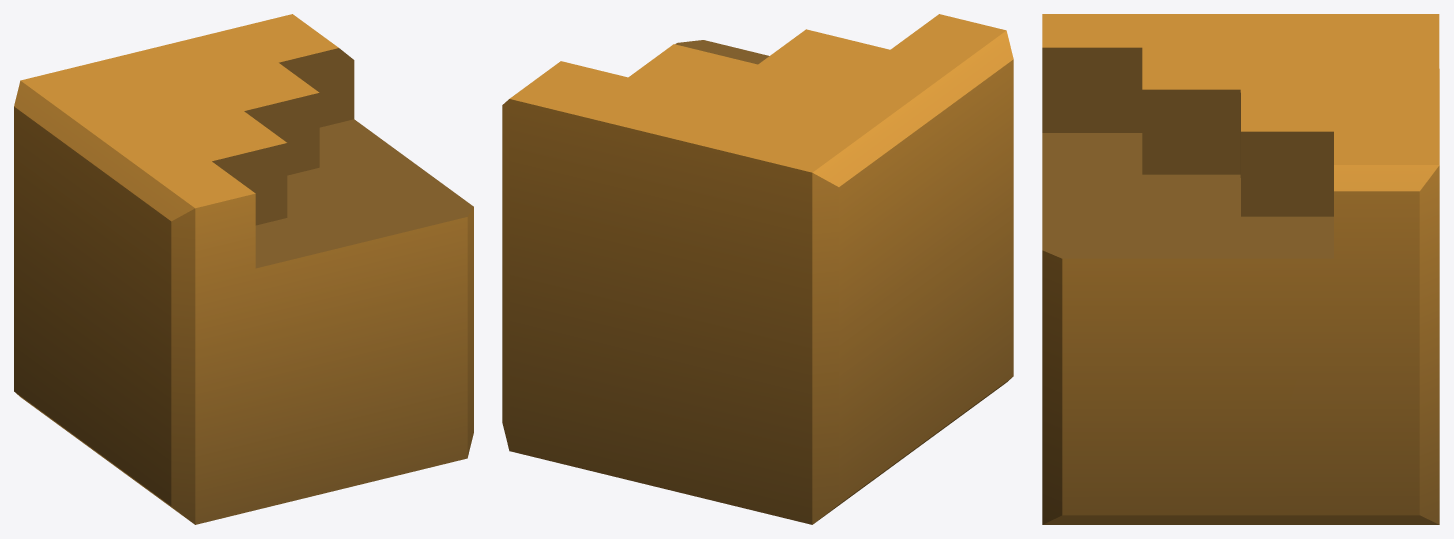
The model's file is Tile_TanggaEmas.fbx.
3 renders of one model, left to right at view 1: azimuth 30°, elevation 25°; view 2: azimuth 150°, elevation 25°; view 3: azimuth 270°, elevation 25°, orthographic. The views are drawn at different scales.
Parts seen in each view (by area): view 1: Cube.003; view 2: Cube.003; view 3: Cube.003.
Part boxes in pixels (box(x1,y1,x2,y2)): Cube.003: box(14, 14, 473, 524); Cube.003: box(502, 14, 1013, 524); Cube.003: box(1042, 14, 1439, 524).
Size of the model in its own units: 1 by 1 by 1.
1 material, 1 textured.
